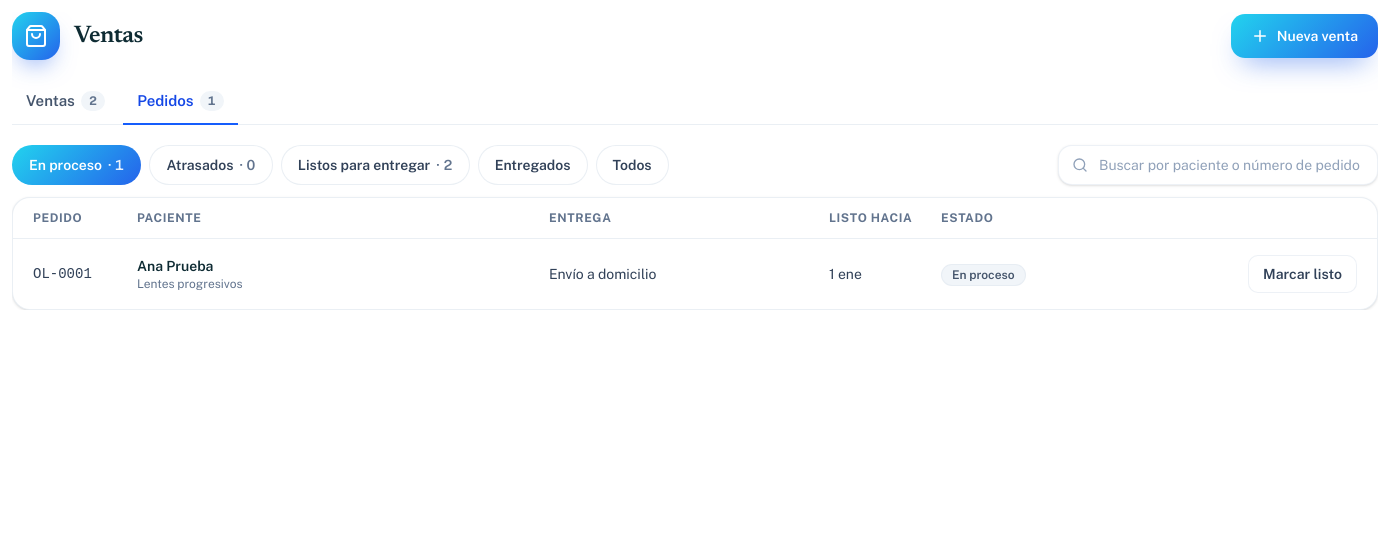
Ventas — Pedidos › se busca por paciente o número y, sin resultados, dice qué hacer
The image size is (1390, 536).
Click the button "Todos" at (632, 164), box [596,144,669,184]
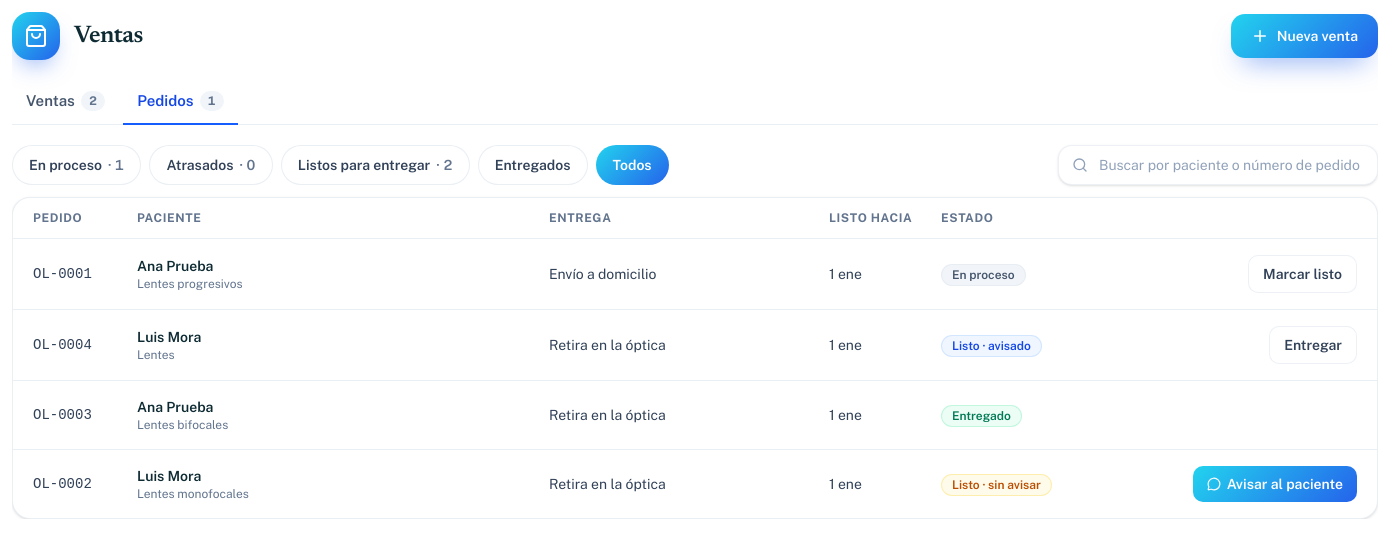
Type "luis" into the field labelled "Buscar por paciente o número de pedido" at (1218, 164), box [1058,144,1378,184]
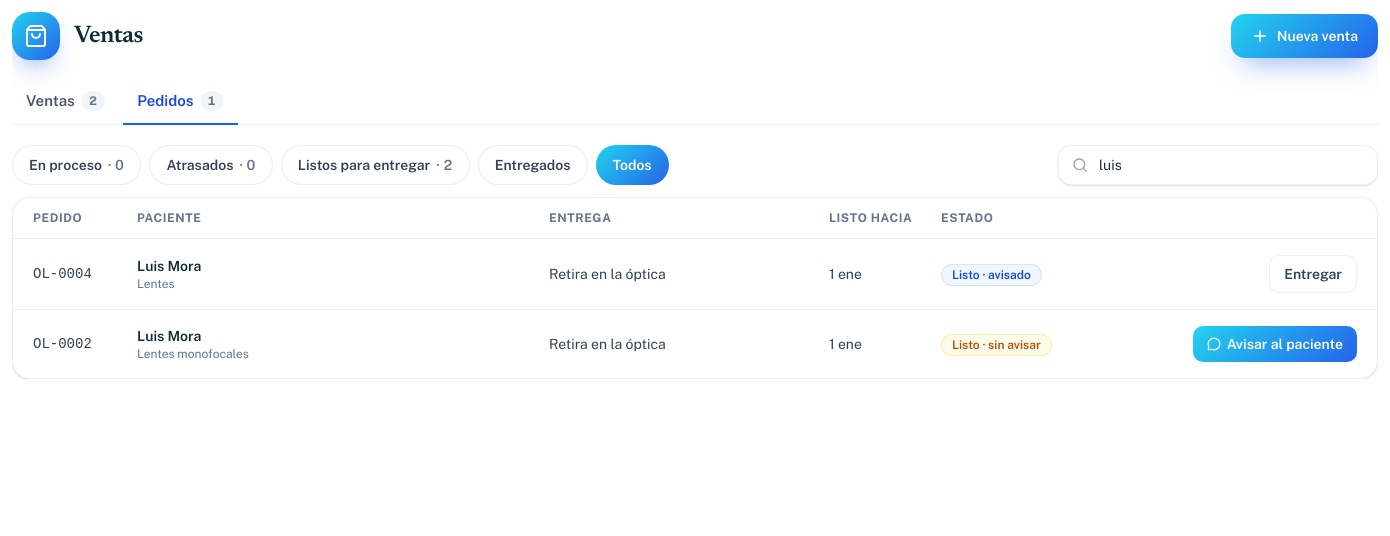
Check: the number of list items is 2, box [13,238,1377,310]; [13,310,1377,378]
Replace the text in the field named "Buscar por paciente o número de pedido" with "zzz" at (1218, 164), box [1058,144,1378,184]
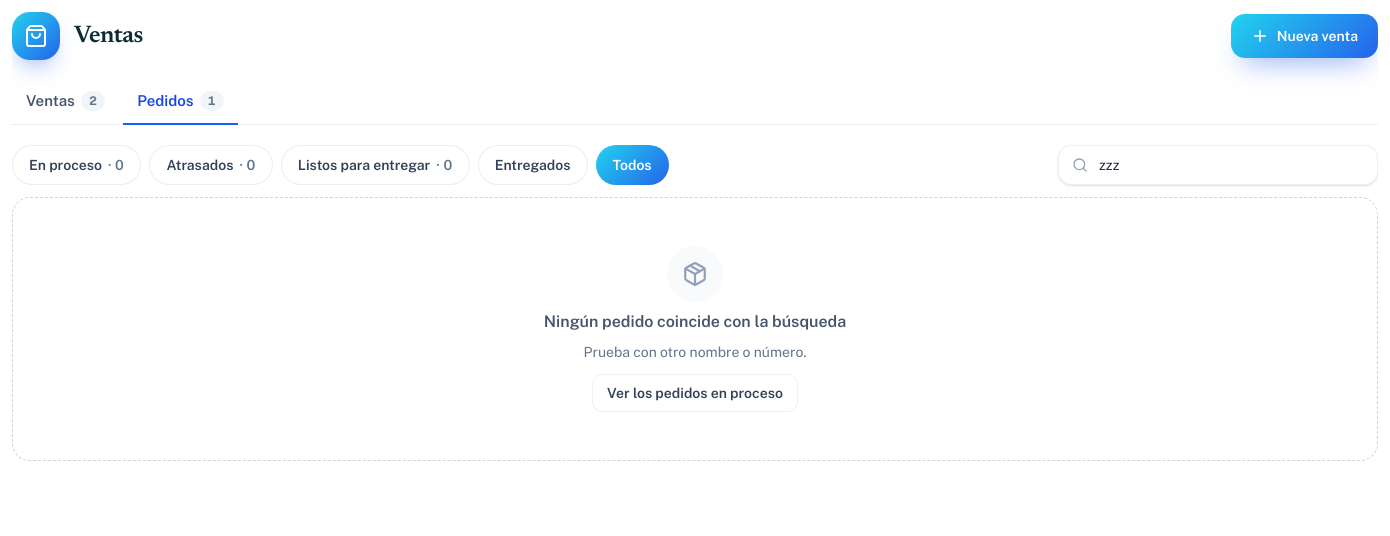
Check: the text "Ningún pedido coincide con la búsqueda" is shown, box [544,310,846,334]
Check: the button "Ver los pedidos en proceso" is shown, box [592,374,798,412]
